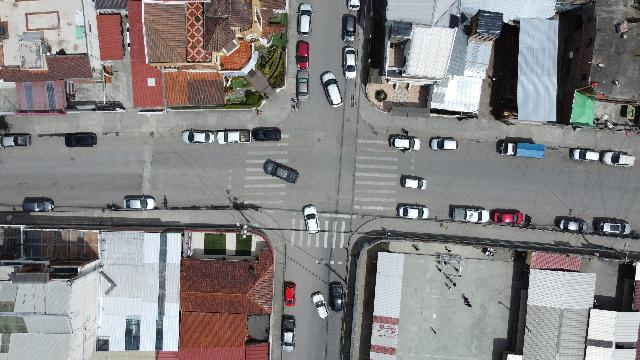Vehiculo: (264, 159, 300, 185), (320, 71, 342, 107), (452, 206, 490, 224), (596, 218, 632, 236), (388, 133, 420, 152), (599, 150, 635, 166), (217, 128, 251, 144), (302, 204, 320, 234), (281, 314, 295, 352), (297, 3, 313, 36), (182, 128, 214, 144), (490, 208, 522, 224), (397, 203, 429, 219), (65, 132, 97, 148), (123, 194, 155, 210), (558, 217, 590, 233), (22, 197, 54, 212), (311, 292, 329, 318), (252, 127, 282, 142), (342, 47, 356, 79), (1, 133, 32, 147), (296, 70, 310, 100), (329, 281, 343, 311), (569, 148, 599, 162), (400, 174, 426, 190), (295, 40, 309, 68), (429, 137, 457, 151), (342, 14, 356, 42), (284, 282, 296, 306)
